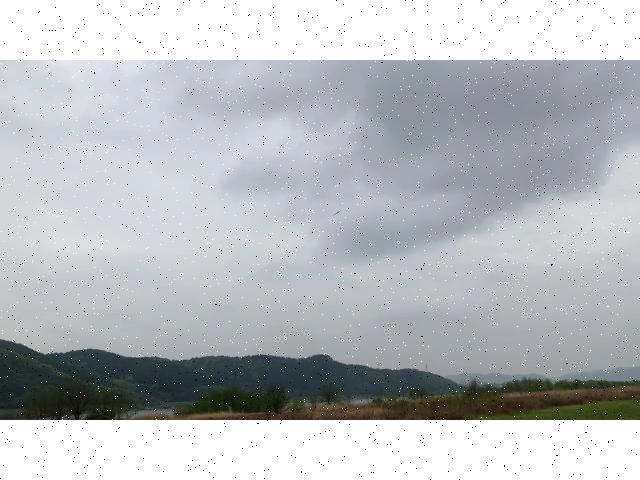Anti-Drone: (330, 206, 346, 220)
